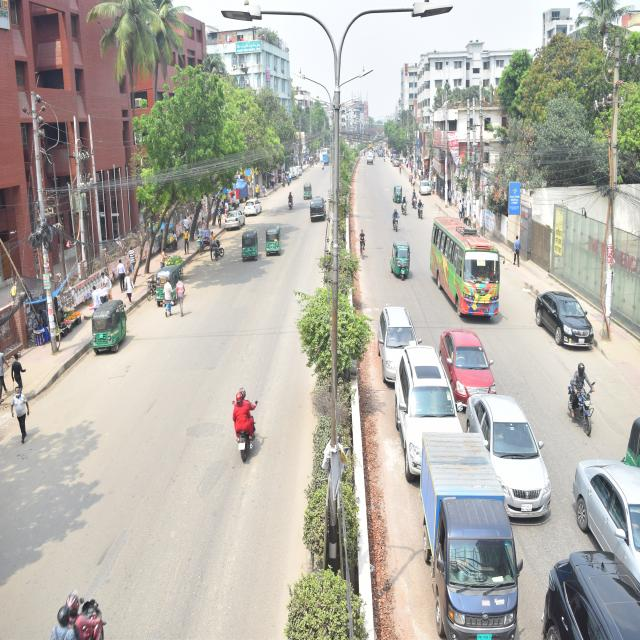bus: (426, 209, 505, 321)
car: (467, 394, 556, 528), (546, 546, 640, 640), (571, 454, 640, 575), (399, 346, 462, 452), (440, 328, 500, 406), (377, 302, 423, 376), (218, 206, 250, 230), (308, 191, 326, 231), (237, 193, 267, 216), (417, 178, 436, 199)
motorbike: (50, 586, 111, 640), (228, 400, 266, 469), (561, 380, 601, 435), (208, 241, 229, 267), (390, 210, 401, 235), (409, 186, 420, 211), (400, 195, 410, 218), (417, 199, 426, 222)
pickup-van: (418, 425, 522, 638)
